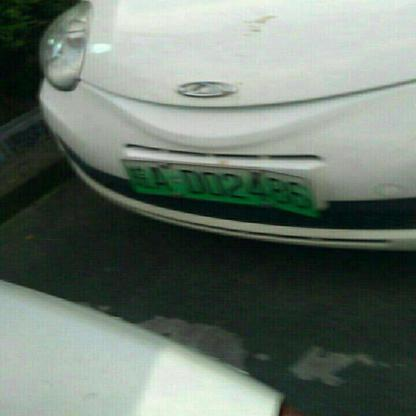lp: (122, 160, 312, 215)
